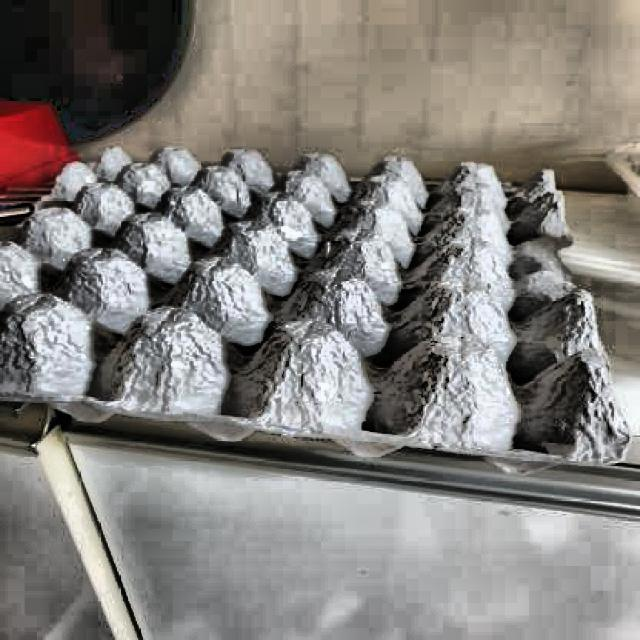Cardbox: (0, 119, 640, 466)
